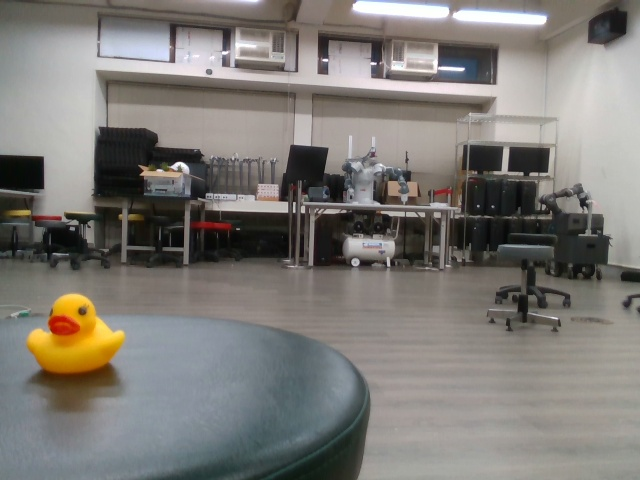duck: (22, 288, 130, 379)
